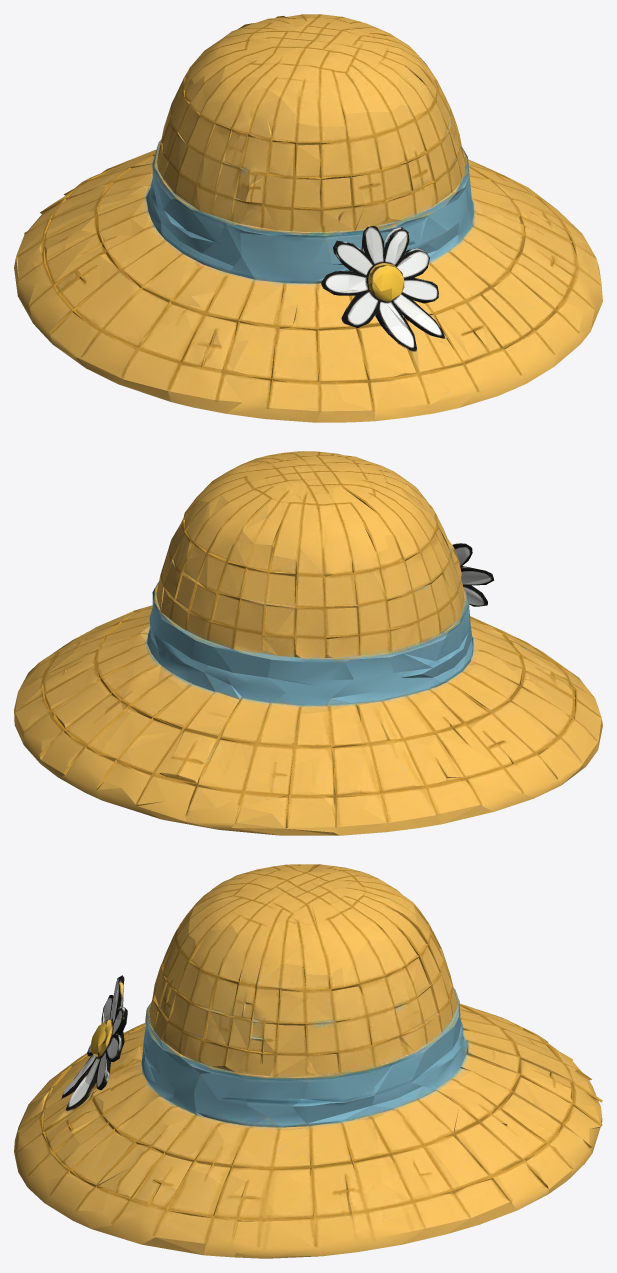
File: hat_sun.glb
3 views of the same model, one above another, from view 1: azimuth 30°, elevation 25°; view 2: azimuth 150°, elevation 25°; view 3: azimuth 270°, elevation 25° (orthographic).
Bounding box in the file's own units: 1.89 × 0.9504 × 1.9.
Materials: 1 (1 with a texture image).
